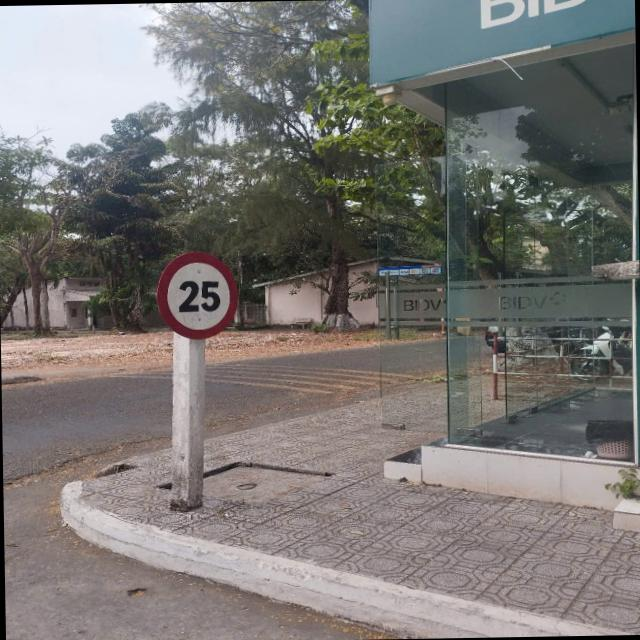Tre_Em: (154, 250, 240, 340)
